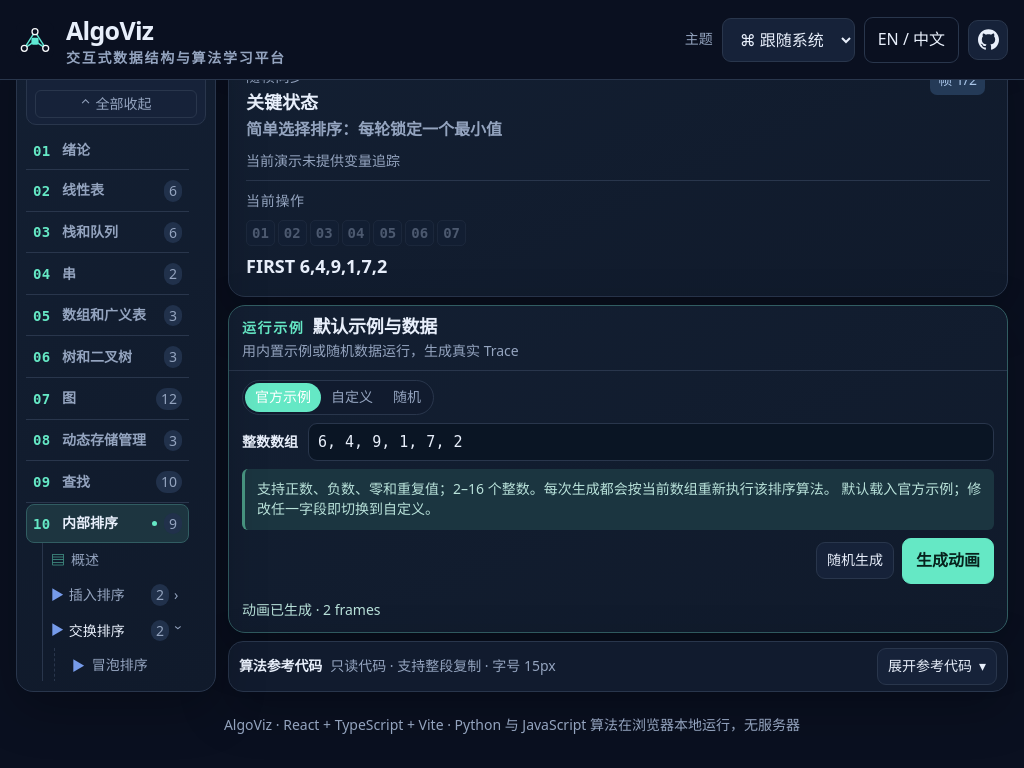
it: INPUT-02 — six sorting algorithms execute generated data › selection runs custom signed/duplicate values through Python and restores official data
Earlier steps of the test are not shown.
(page scrolled)
expect the element with test id "guided-input" has attribute data-algorithm="selection": met, box [242, 380, 994, 621]
Replace the text in the text box with test id "run-input" with "9, -4, 0, 4, 4": [651, 442] box [308, 423, 994, 461]
(page scrolled)
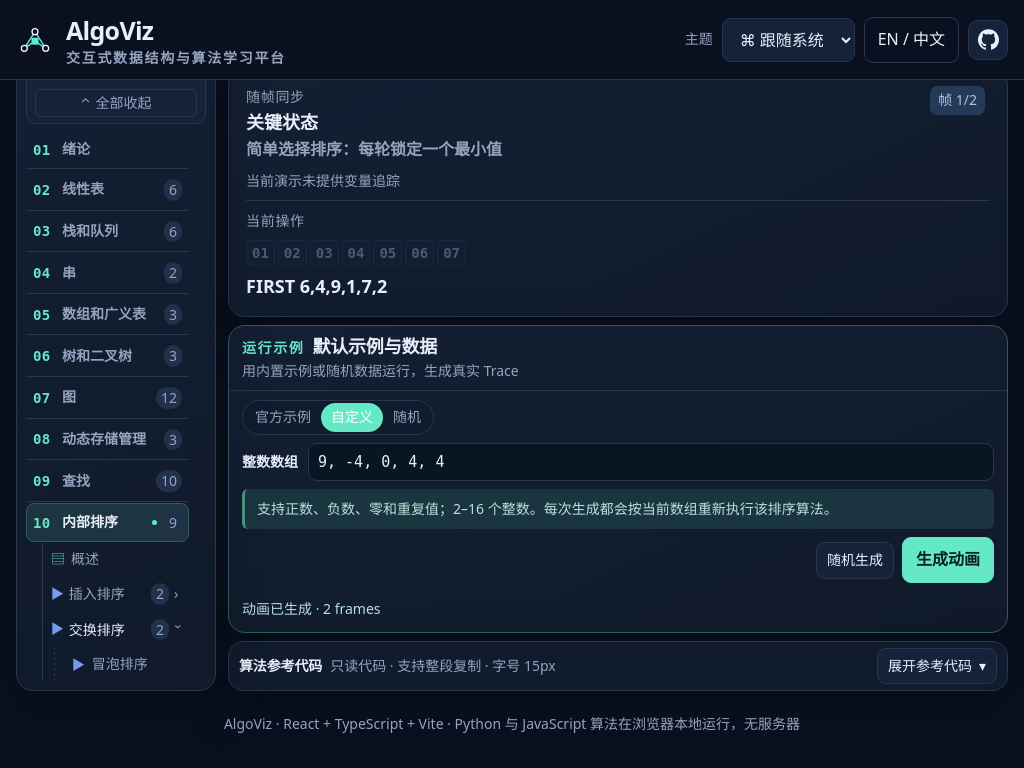
expect the button with test id "guided-mode-custom" is pressed: met, box [321, 403, 383, 432]
Click the button with test id "run-btn": [948, 560] box [902, 537, 994, 583]
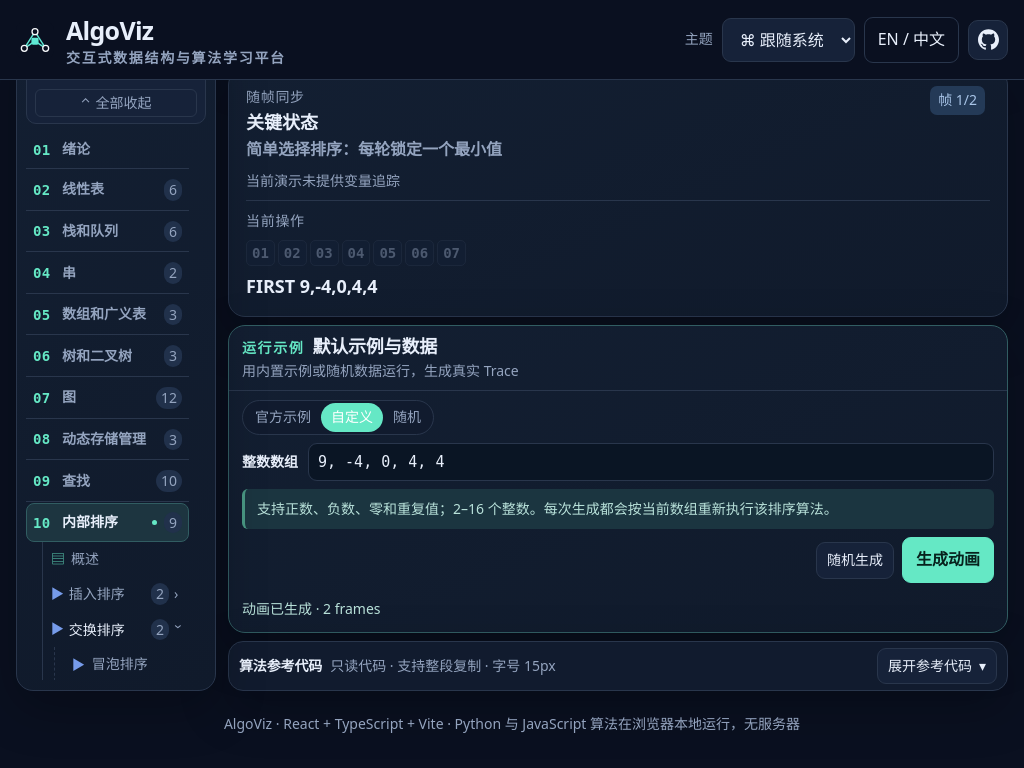
Click the button with test id "guided-mode-official": [283, 417] box [245, 403, 321, 432]
(page scrolled)
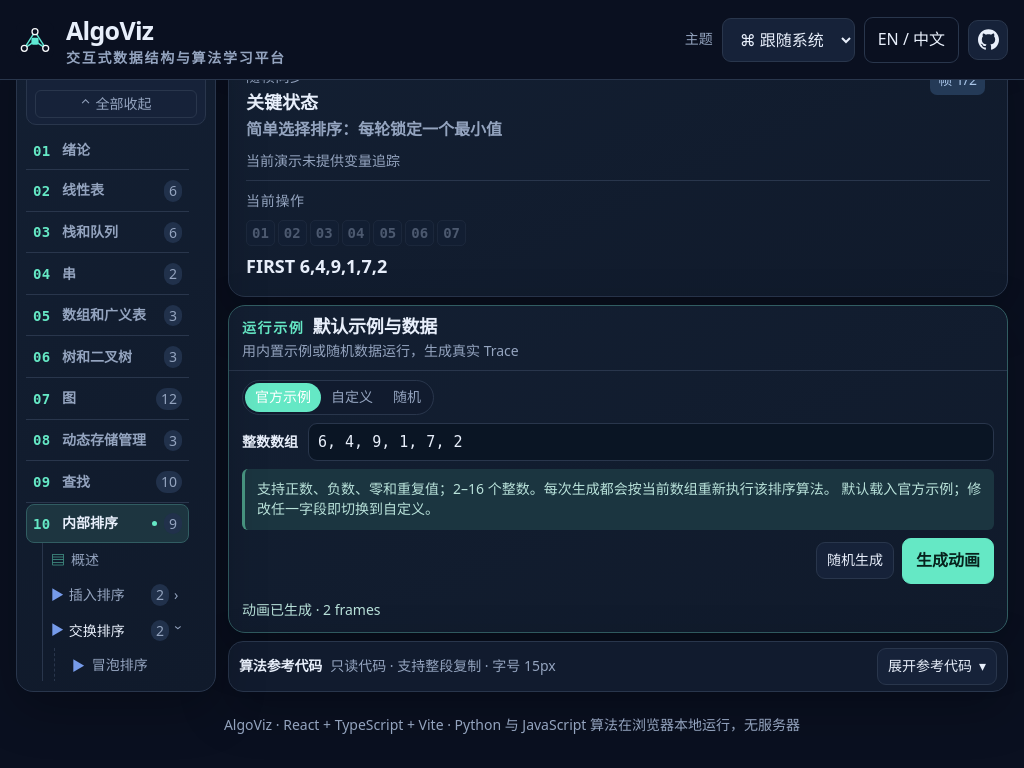
expect the button with test id "guided-mode-official" is pressed: met, box [245, 383, 321, 412]
